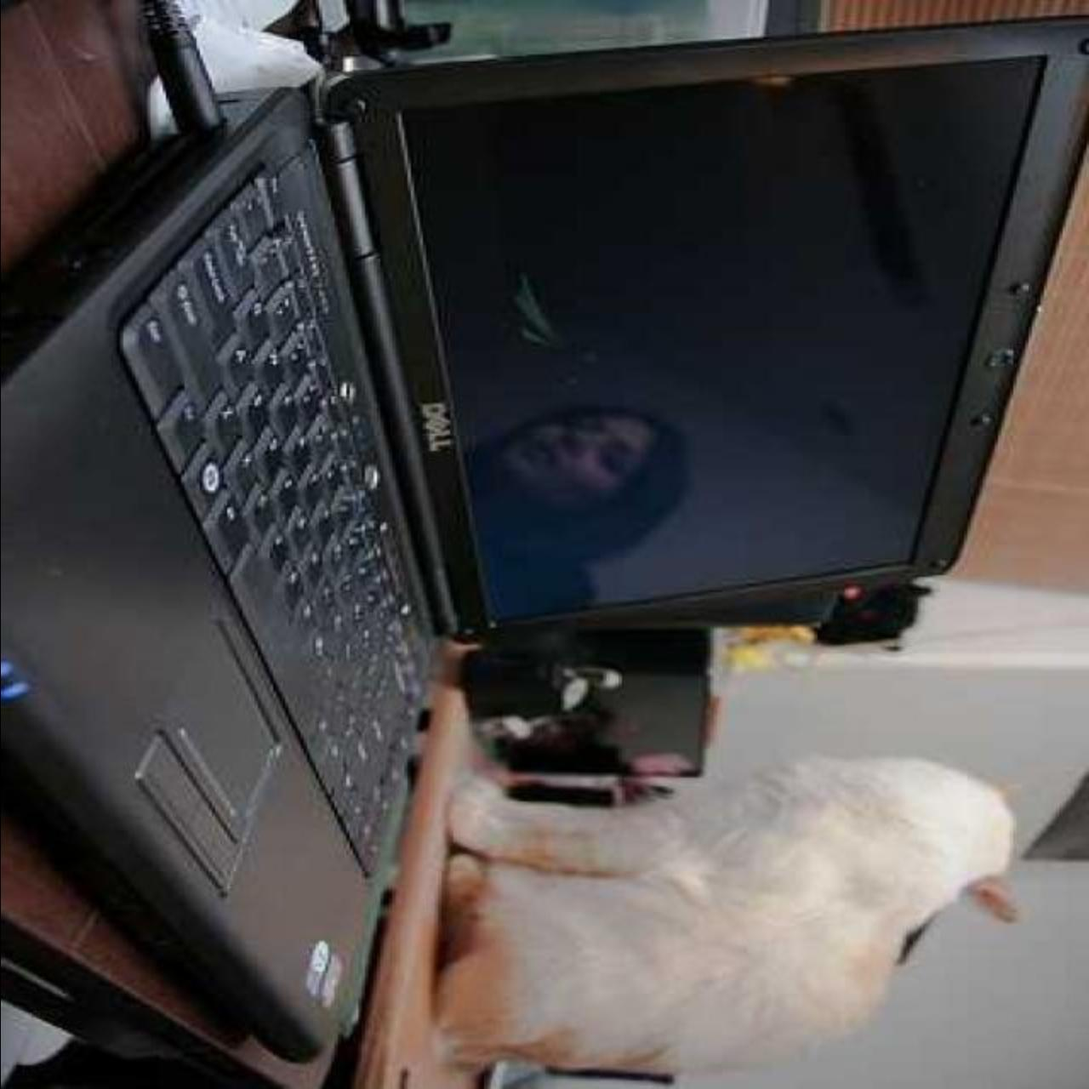laptop: (0, 0, 1084, 1058)
